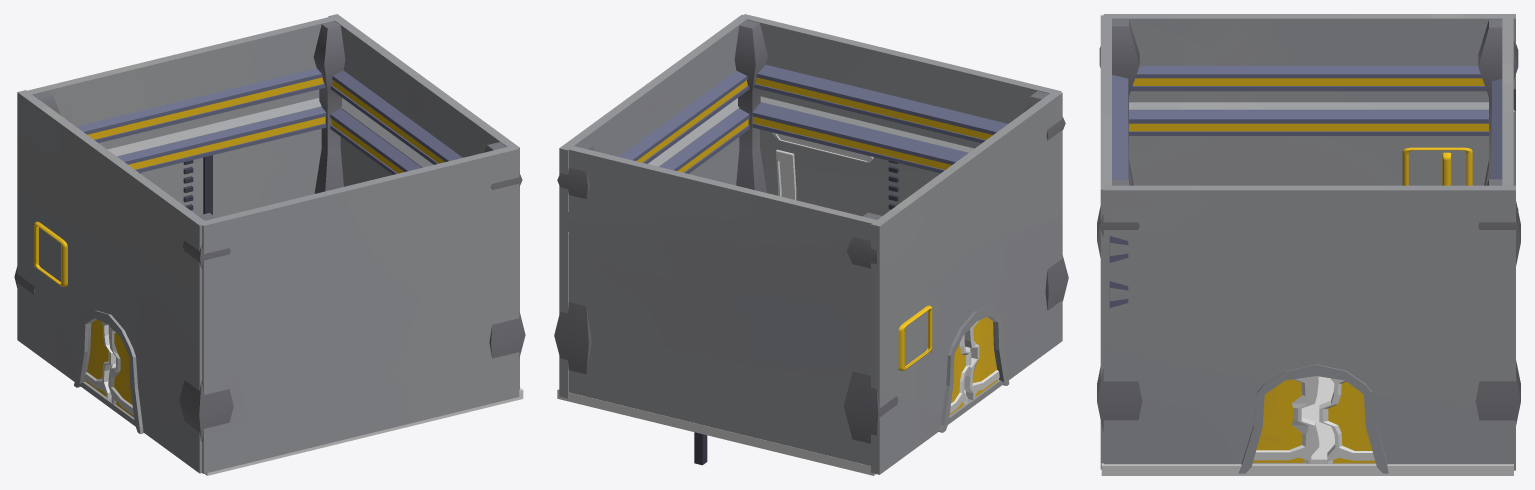
File: lab.fbx
The picture shows the model from 3 angles, left to right: view 1: azimuth 30°, elevation 25°; view 2: azimuth 150°, elevation 25°; view 3: azimuth 270°, elevation 25°; orthographic projection. The views are drawn at different scales.
Visible parts, largest first — view 1: polySurface16, polySurface14, polySurface13, polySurface12, polySurface15, pCube55, pCube6, pCube61, polySurface17, pCube52, pCube46; view 2: polySurface13, polySurface14, polySurface16, polySurface12, polySurface15, pCube55, polySurface17, pCube61, pCube6, pCube53, pCube52, pCube51; view 3: polySurface15, polySurface14, polySurface12, pCube55, polySurface17, pCube63, pCube62, polySurface16, polySurface13, pCube52.
Part boxes in pixels (x1,y1,x2,y2): polySurface16: (199, 145, 519, 473); polySurface14: (17, 90, 207, 473); polySurface13: (21, 15, 341, 217); polySurface12: (76, 68, 462, 174); polySurface15: (328, 14, 519, 389); pCube55: (14, 21, 525, 442); pCube6: (84, 319, 115, 399); pCube61: (108, 325, 133, 417); polySurface17: (112, 363, 523, 475); pCube52: (34, 221, 67, 286); pCube46: (203, 155, 212, 214); polySurface13: (562, 144, 882, 465); polySurface14: (871, 91, 1062, 474); polySurface16: (743, 14, 1061, 216); polySurface12: (618, 65, 1007, 173); polySurface15: (559, 14, 749, 398); pCube55: (554, 20, 1068, 443); polySurface17: (557, 346, 970, 475); pCube61: (964, 317, 999, 399); pCube6: (949, 334, 971, 414); pCube53: (776, 149, 796, 199); pCube52: (898, 305, 932, 370); pCube51: (772, 132, 873, 162); polySurface15: (1103, 185, 1515, 473); polySurface14: (1103, 14, 1515, 185); polySurface12: (1109, 66, 1502, 307); pCube55: (1097, 19, 1520, 431); polySurface17: (1101, 376, 1513, 475); pCube63: (1253, 376, 1319, 463); pCube62: (1319, 378, 1375, 463); polySurface16: (1100, 15, 1111, 469); polySurface13: (1502, 15, 1513, 189); pCube52: (1402, 147, 1472, 185).
Bounding box in the file's own units: 207 × 172 × 206.
Materials: 8 (8 with a texture image).
